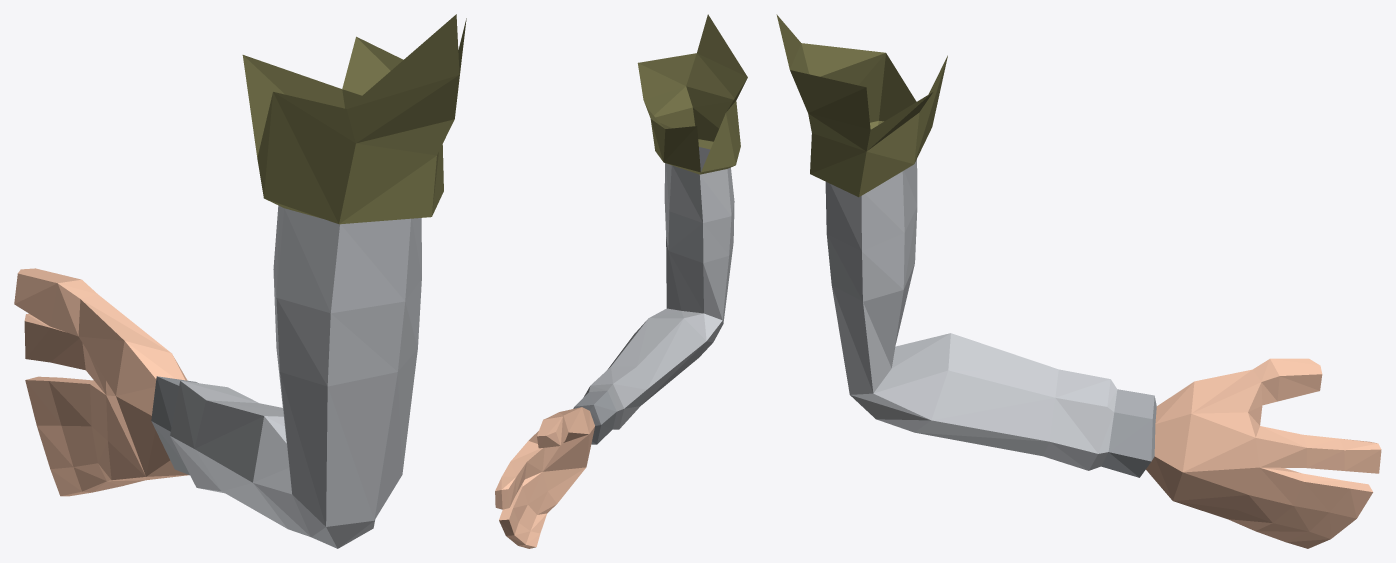
Rendered from Daughter_01_ArmR_76.obj.
3 views of the same model, side by side, from view 1: azimuth 30°, elevation 25°; view 2: azimuth 150°, elevation 25°; view 3: azimuth 270°, elevation 25° (orthographic). The views are drawn at different scales.
Visible parts, largest first — view 1: Daughter_01_ArmR_76; view 2: Daughter_01_ArmR_76; view 3: Daughter_01_ArmR_76.
Boxes of the visible parts, x1,y1,x2,y2 form: Daughter_01_ArmR_76: (14,14,466,548); Daughter_01_ArmR_76: (495,14,747,548); Daughter_01_ArmR_76: (776,14,1381,548).
Size of the model in its own units: 0.1622 by 0.5914 by 0.5966.
1 material, 1 textured.
